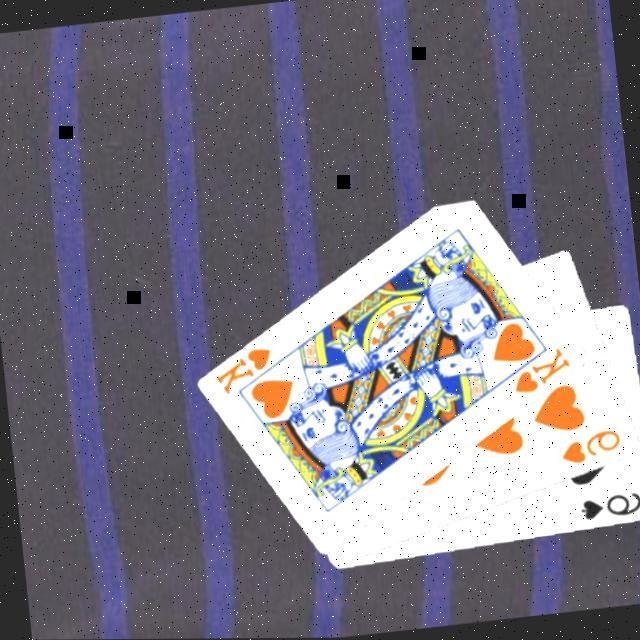6S: (574, 487, 640, 522)
9H: (555, 423, 626, 467)
KH: (208, 341, 277, 397), (506, 341, 576, 396)
